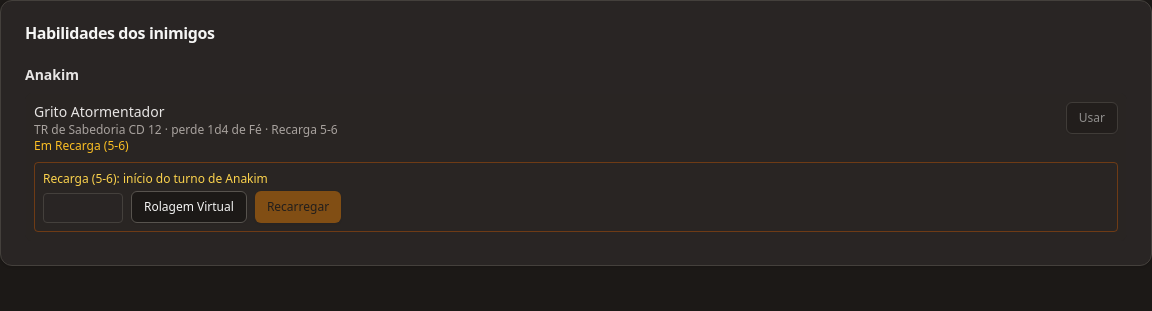
Scenario: EnemyAbilityPanel: uso por combate e Recarga › mostra o erro do serviço ao recarregar
Type "6" into the number field named "d6 da Recarga de Grito Atormentador (Anakim)" at x=83, y=208, box [43,193,123,223]
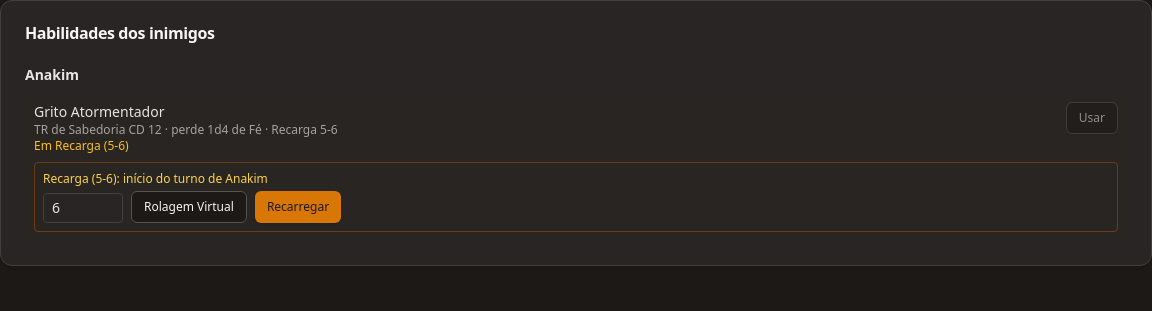
Click the button with aria-label "Recarregar Grito Atormentador (Anakim)" at x=298, y=207, box [255,191,341,223]
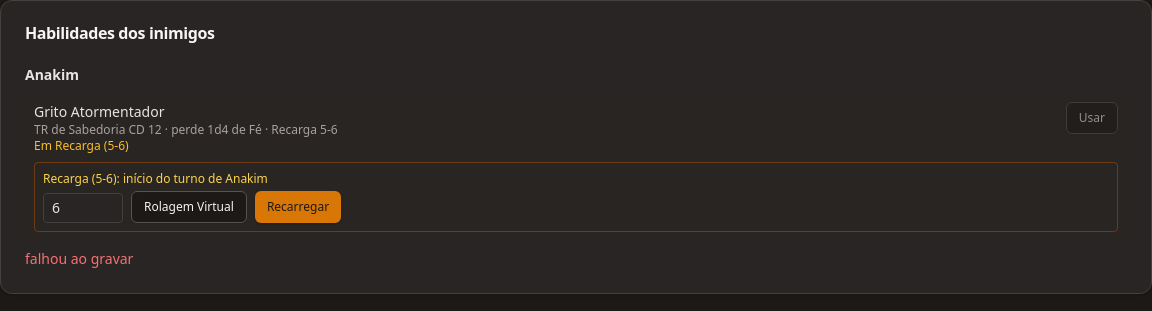
Expected: the message reads "falhou ao gravar", [25,249,133,268]
